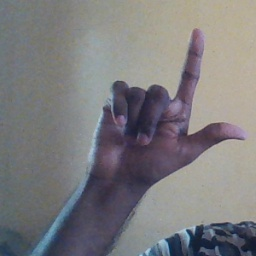L: (85, 28, 246, 185)
